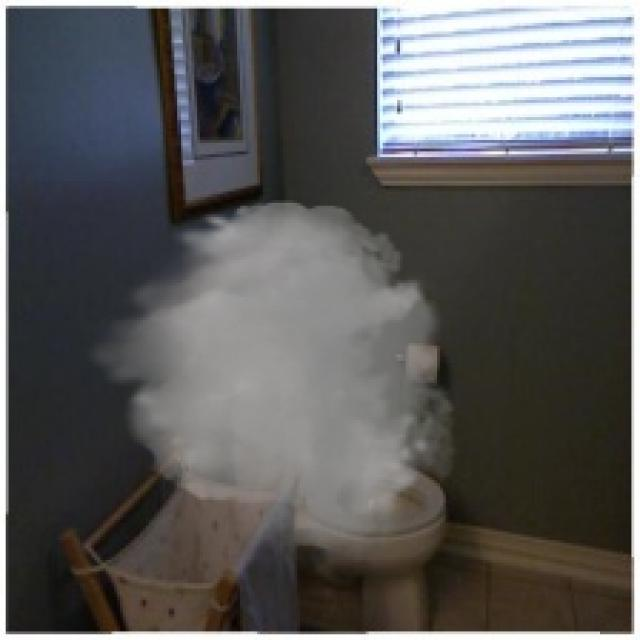smoke: (80, 192, 471, 577)
